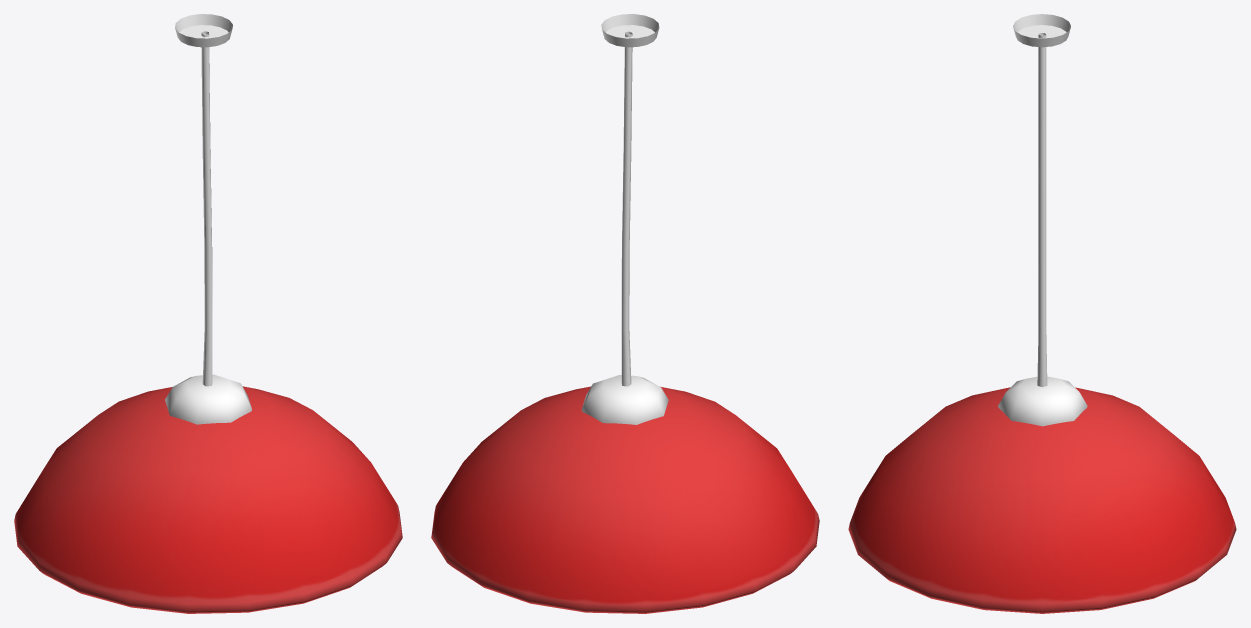
The model's file is CeilingLampLarge.FBX.
The picture shows the model from 3 angles, left to right: view 1: azimuth 30°, elevation 25°; view 2: azimuth 150°, elevation 25°; view 3: azimuth 270°, elevation 25°; orthographic projection.
Visible parts, largest first — view 1: CeilingLampLarge; view 2: CeilingLampLarge; view 3: CeilingLampLarge.
Boxes of the visible parts, x1,y1,x2,y2 form: CeilingLampLarge: [14, 14, 402, 613]; CeilingLampLarge: [431, 14, 819, 613]; CeilingLampLarge: [848, 14, 1236, 613].
Bounding box in the file's own units: 122 × 175 × 122.
